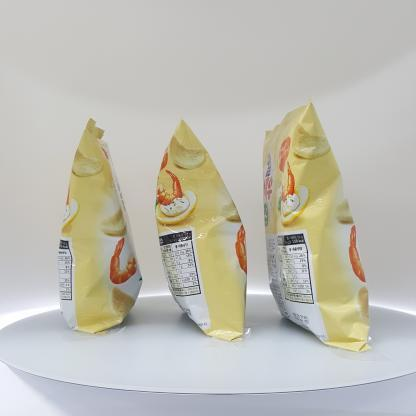Plastic Packaging: (265, 116, 373, 342), (56, 111, 146, 339), (162, 124, 246, 326)
